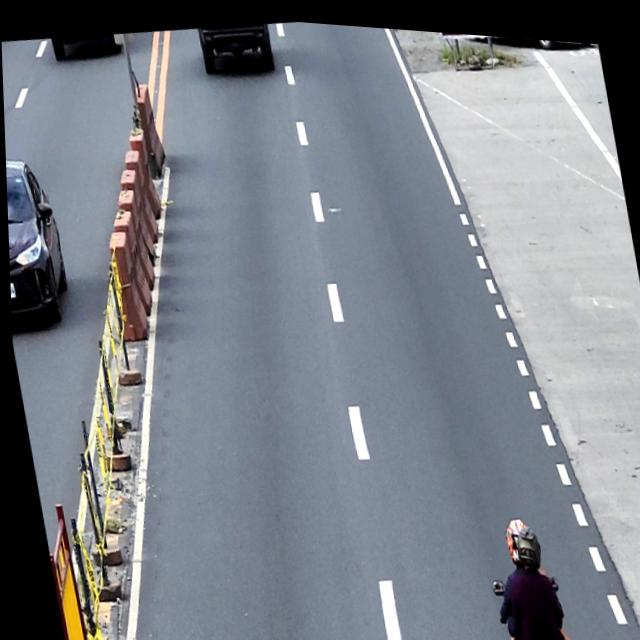Car: (4, 152, 71, 328), (197, 15, 276, 76), (462, 27, 599, 56)
License-Plate: (8, 280, 15, 300)
Motorcycle: (487, 560, 570, 640)
